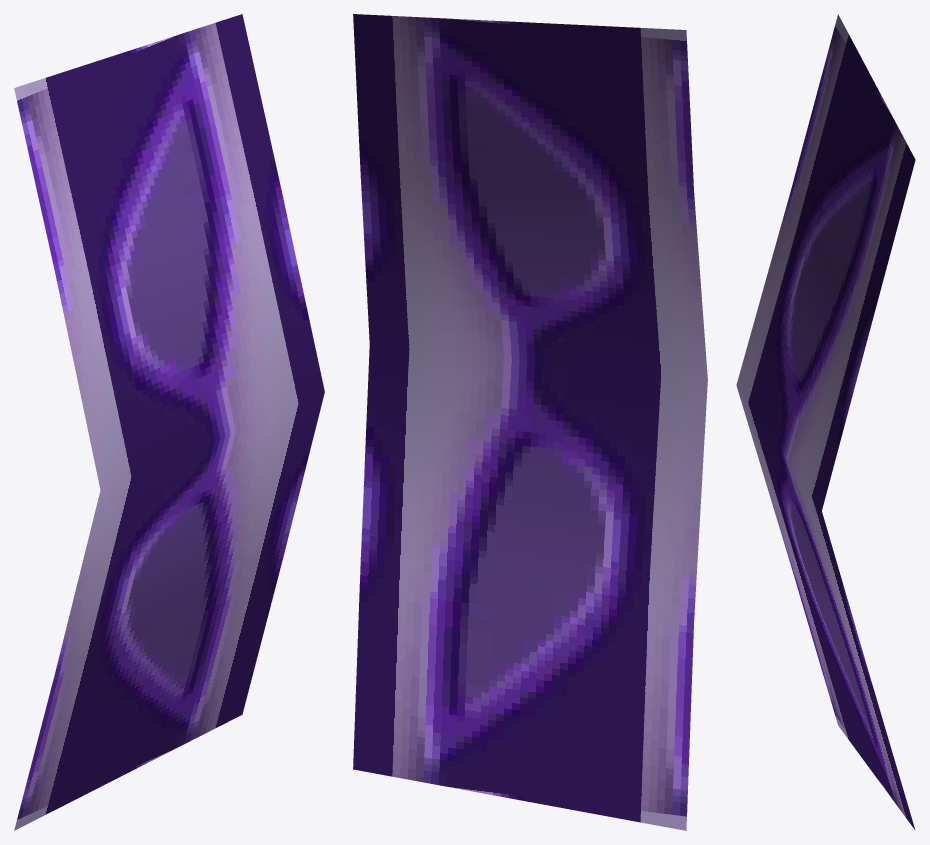
File: acc_glass_funky.dae
3 views of the same model, side by side, from view 1: azimuth 30°, elevation 25°; view 2: azimuth 150°, elevation 25°; view 3: azimuth 270°, elevation 25° (orthographic). The views are drawn at different scales.
Visible parts, largest first — view 1: acc_glass_funky; view 2: acc_glass_funky; view 3: acc_glass_funky.
Boxes of the visible parts, x1,y1,x2,y2 form: acc_glass_funky: [14, 14, 324, 830]; acc_glass_funky: [353, 14, 707, 830]; acc_glass_funky: [736, 14, 915, 830].
Bounding box in the file's own units: 9.52 × 22.35 × 5.1.
Materials: 1 (1 with a texture image).
